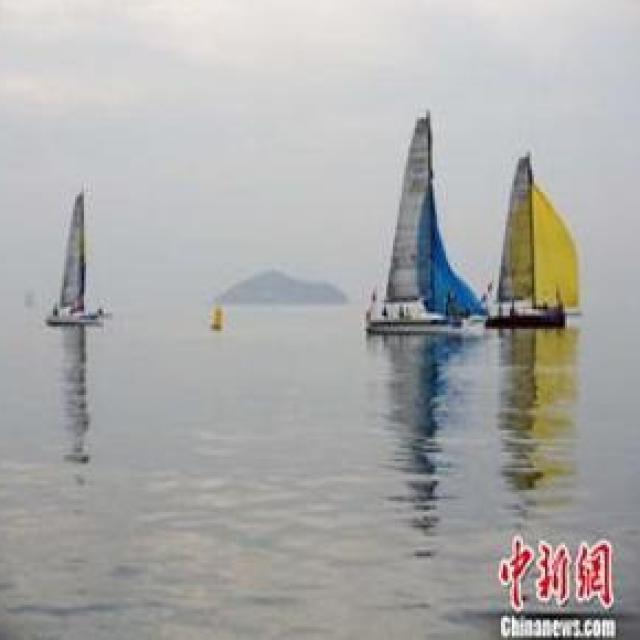sailboat: (364, 106, 481, 328), (484, 151, 587, 328), (43, 186, 112, 322)
